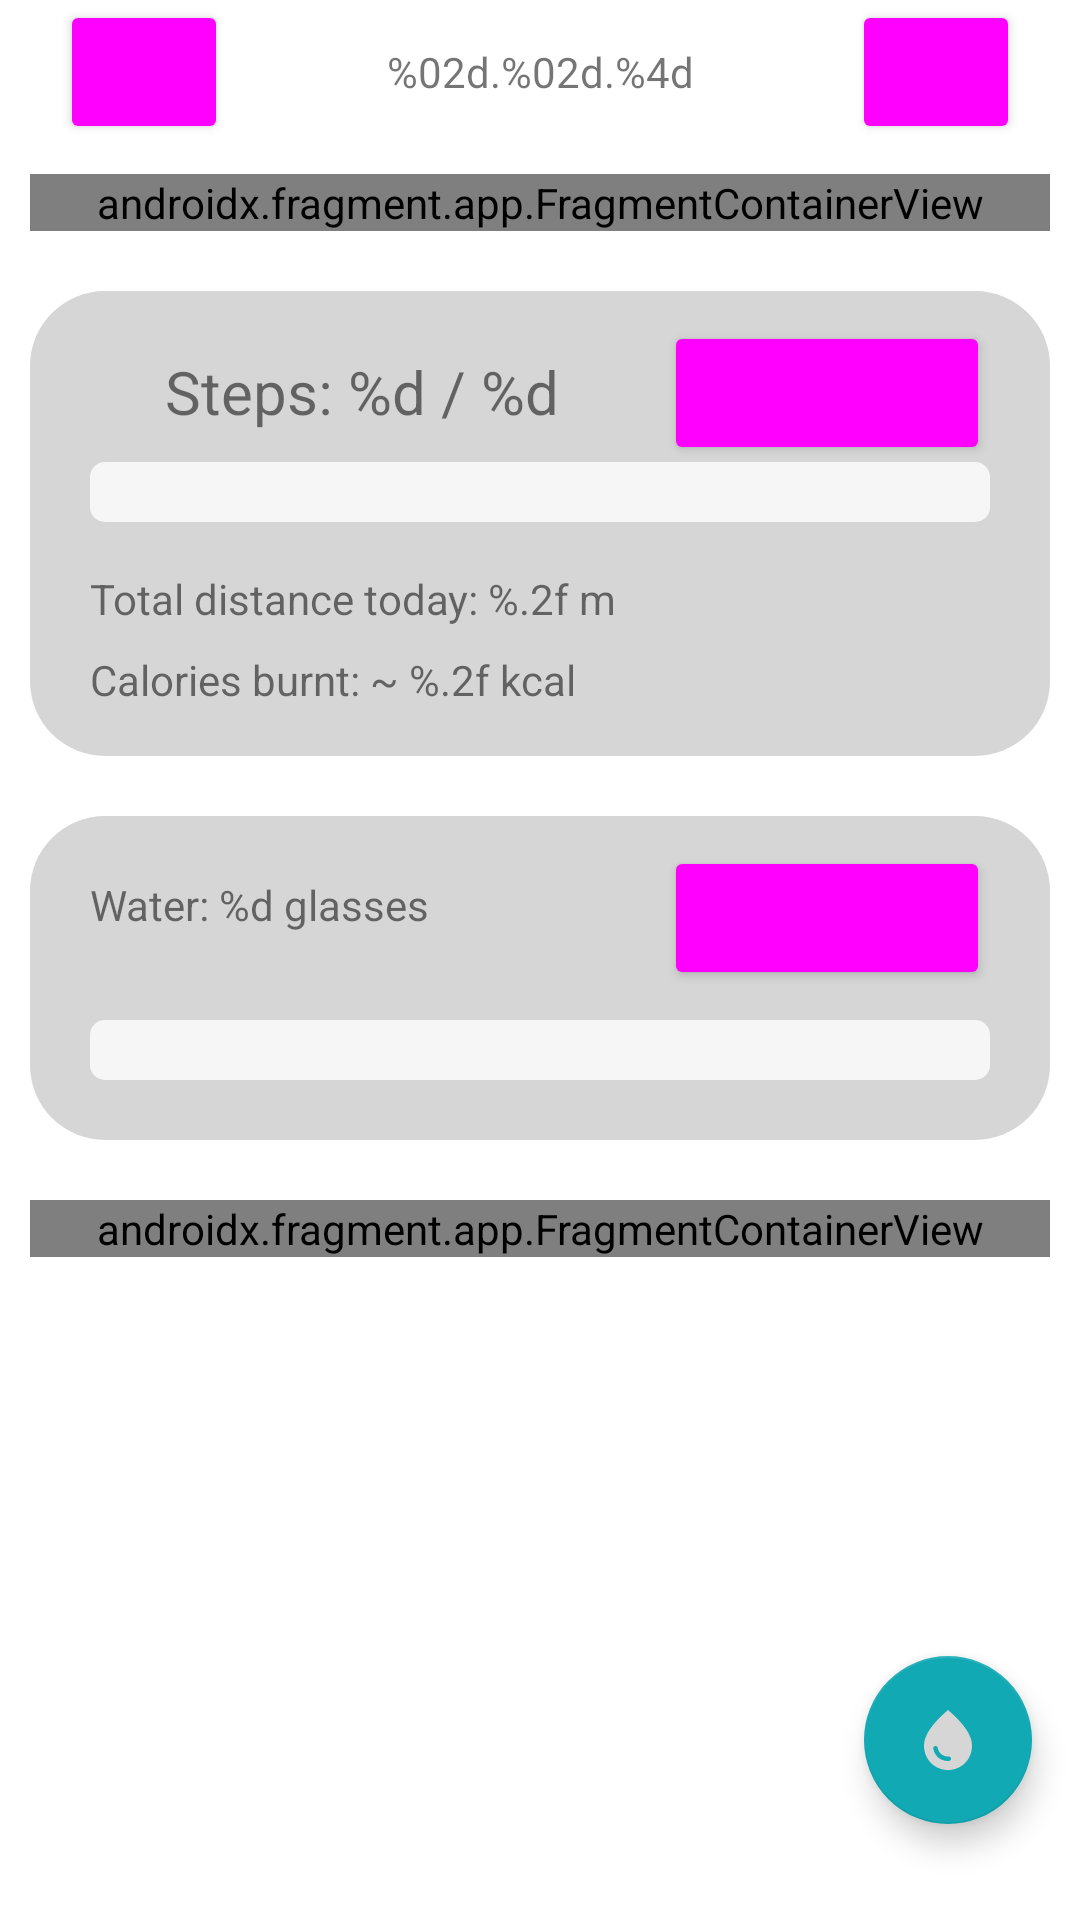

Icon click points for this 1080px x 1920px phone screenshot, format (x,y):
water drop: (948,1740)
